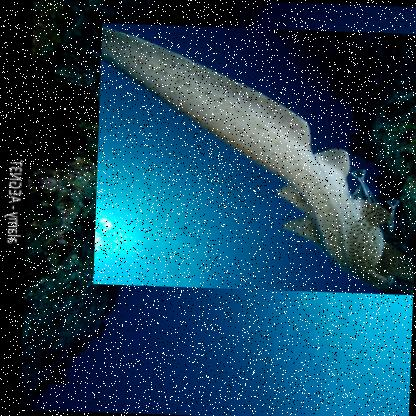zebra_shark: (91, 22, 415, 296)
